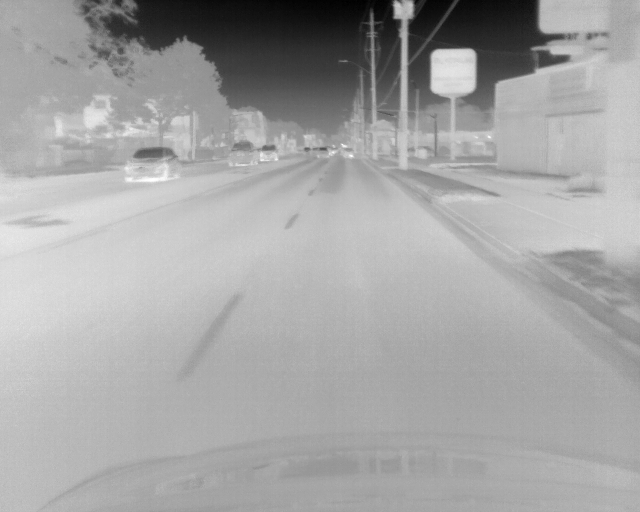car: (124, 146, 182, 183), (228, 141, 259, 167), (259, 144, 279, 162), (343, 146, 355, 160), (318, 147, 329, 160), (329, 146, 339, 157)
